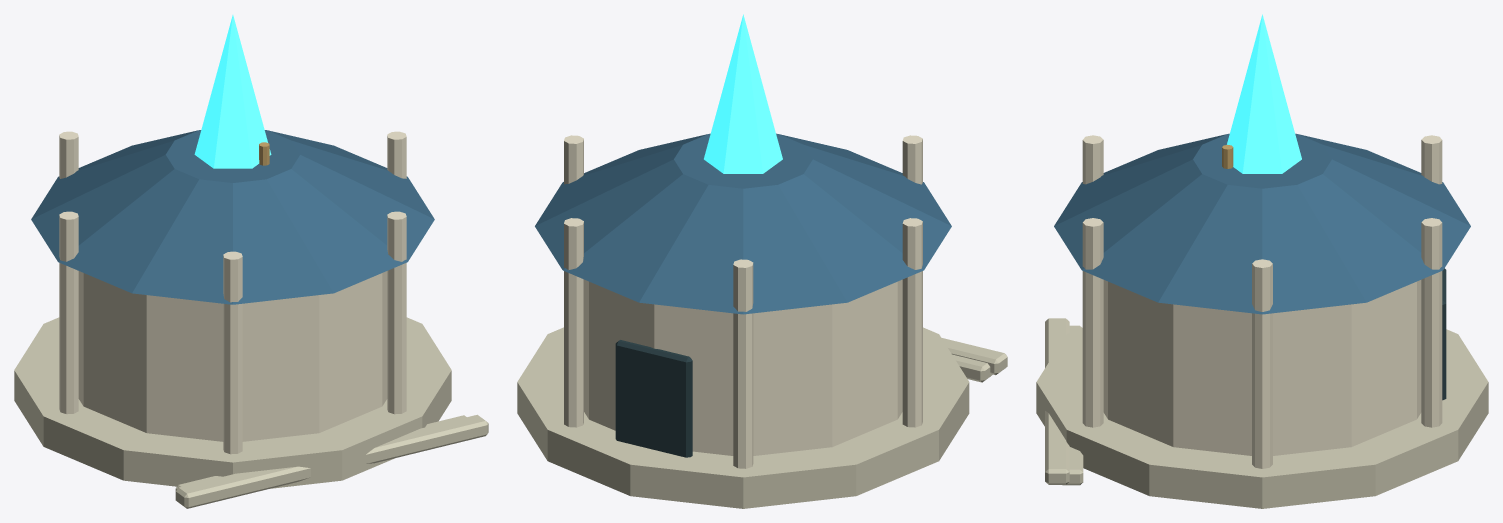
The model's file is level_14.glb.
3 renders of one model, left to right at view 1: azimuth 30°, elevation 25°; view 2: azimuth 150°, elevation 25°; view 3: azimuth 270°, elevation 25°, orthographic. The views are drawn at different scales.
Visible parts, largest first — view 1: mage_guild — level 14; view 2: mage_guild — level 14; view 3: mage_guild — level 14.
Part boxes in pixels (x1,y1,x2,y2): mage_guild — level 14: [14, 15, 488, 508]; mage_guild — level 14: [517, 14, 1007, 508]; mage_guild — level 14: [1036, 14, 1488, 508].
Bounding box in the file's own units: 5.2 × 5.07 × 5.2.
